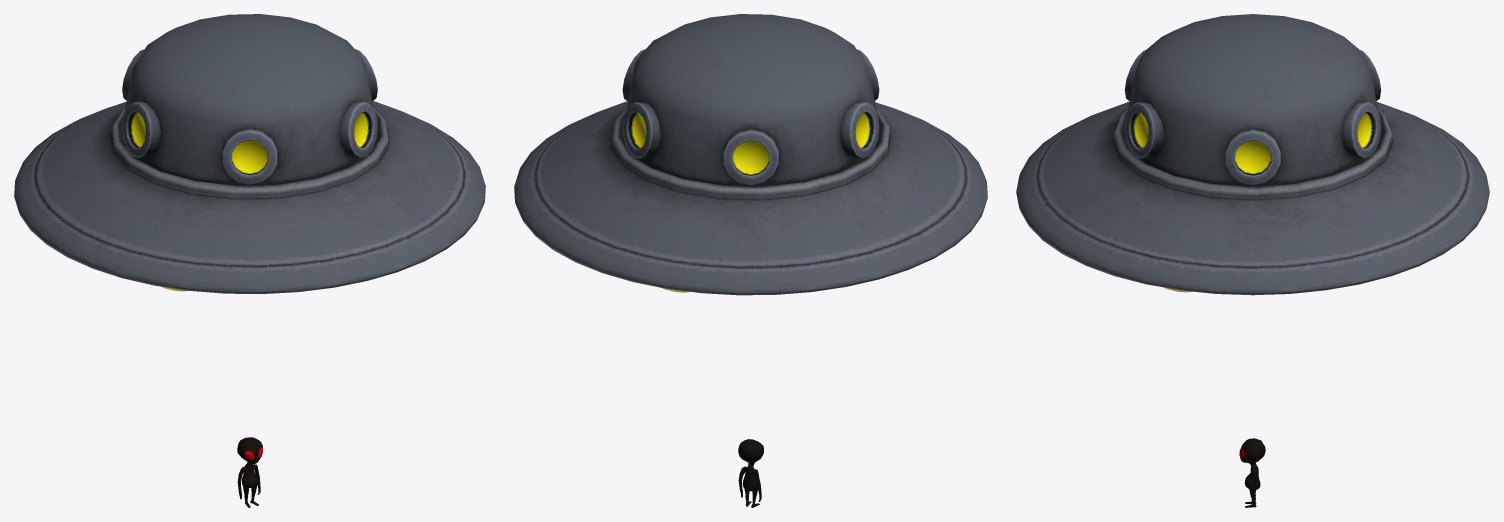
File: FtrUFO.glb
3 views of the same model, side by side, from view 1: azimuth 30°, elevation 25°; view 2: azimuth 150°, elevation 25°; view 3: azimuth 270°, elevation 25° (orthographic).
Visible parts, largest first — view 1: UFObottom__mBodyU, UFObottom__mBody; view 2: UFObottom__mBodyU, UFObottom__mBody; view 3: UFObottom__mBodyU, UFObottom__mBody.
Part boxes in pixels (x1,y1,x2,y2): UFObottom__mBodyU: (14,14,485,293); UFObottom__mBody: (132,112,367,507); UFObottom__mBodyU: (514,14,987,295); UFObottom__mBody: (618,113,869,507); UFObottom__mBodyU: (1016,14,1489,295); UFObottom__mBody: (1134,113,1371,507).
Size of the model in its own units: 18.77 by 20.5 by 18.77.
Materials: 2 (2 with a texture image).
